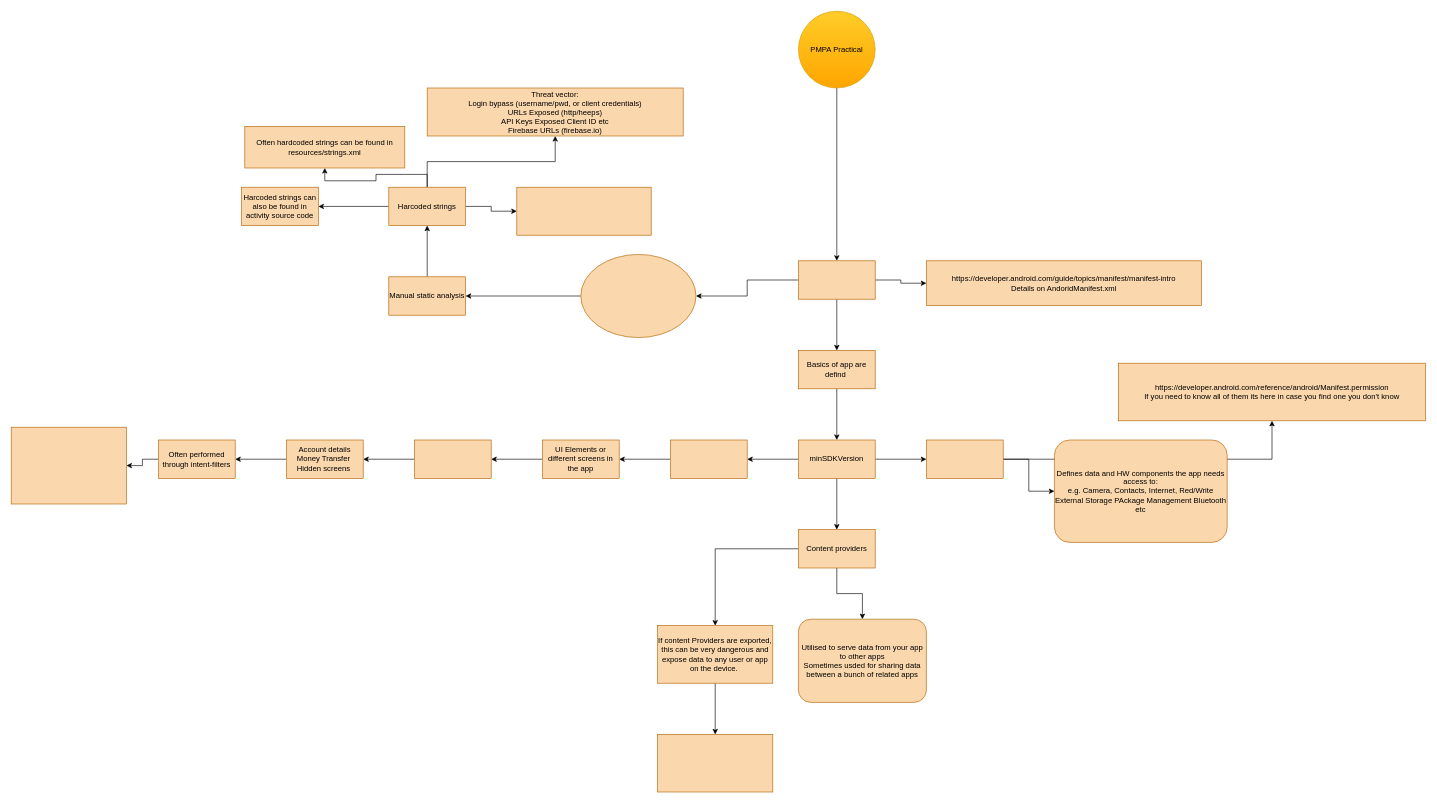
The diagram is 1437 pixels wide and 803 high, and some of its shapes have lost their labels. The shapes that lost their labels are listed below. From the top down, each one's centre as x and y in pixels, then its label:
point (583, 211): JADX searchf ro keywords See static_analysis_pmpa.md in the github
point (638, 296): Use JADX to open AndroidManifest.xml
point (836, 279): AndoridManifest.xml
point (68, 465): An activity exported="True" activity can be accessed from outside the app
point (452, 458): Protected activities
point (708, 458): Acivities
point (964, 458): Permissions
point (715, 763): Should be protected
